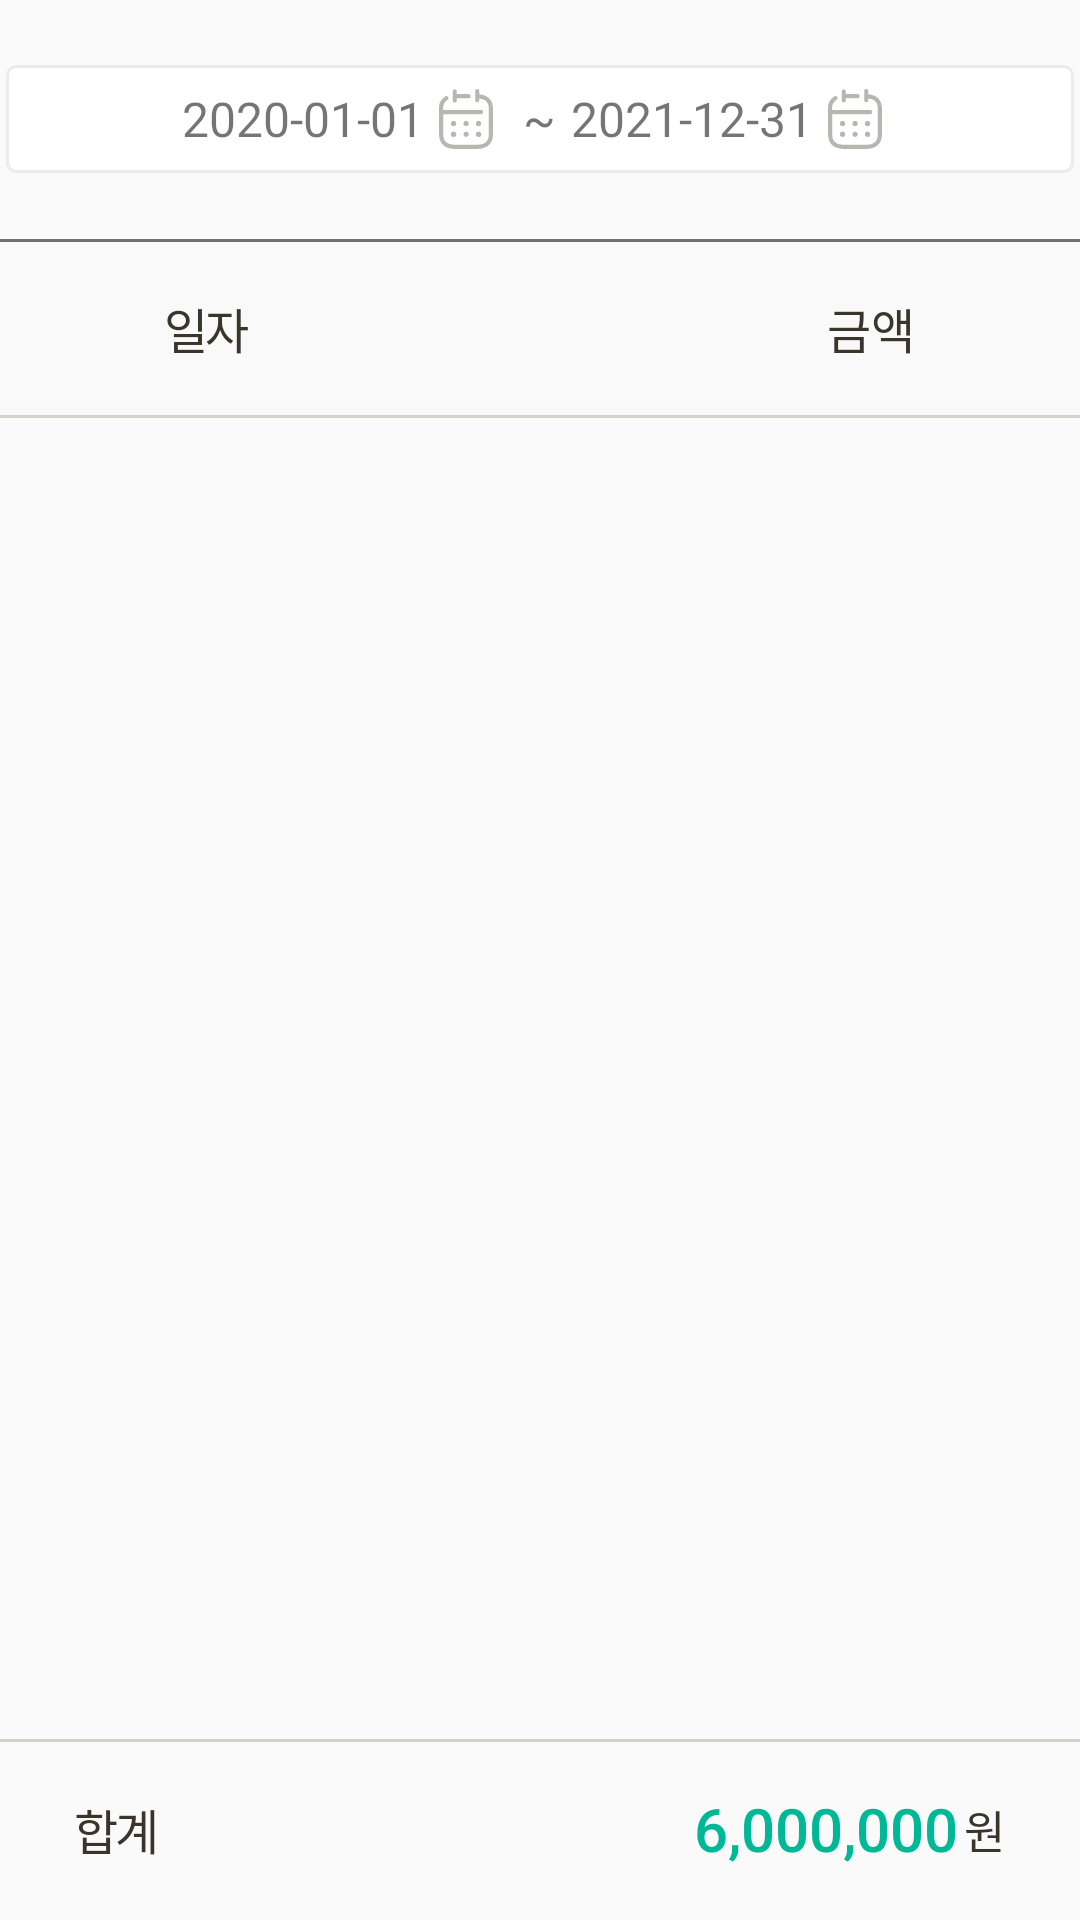

Point at icon controls on the screen. Image size 1080px x 1920px, points as (x,y).
iconly broken calendar: (466,119), (855,119)
